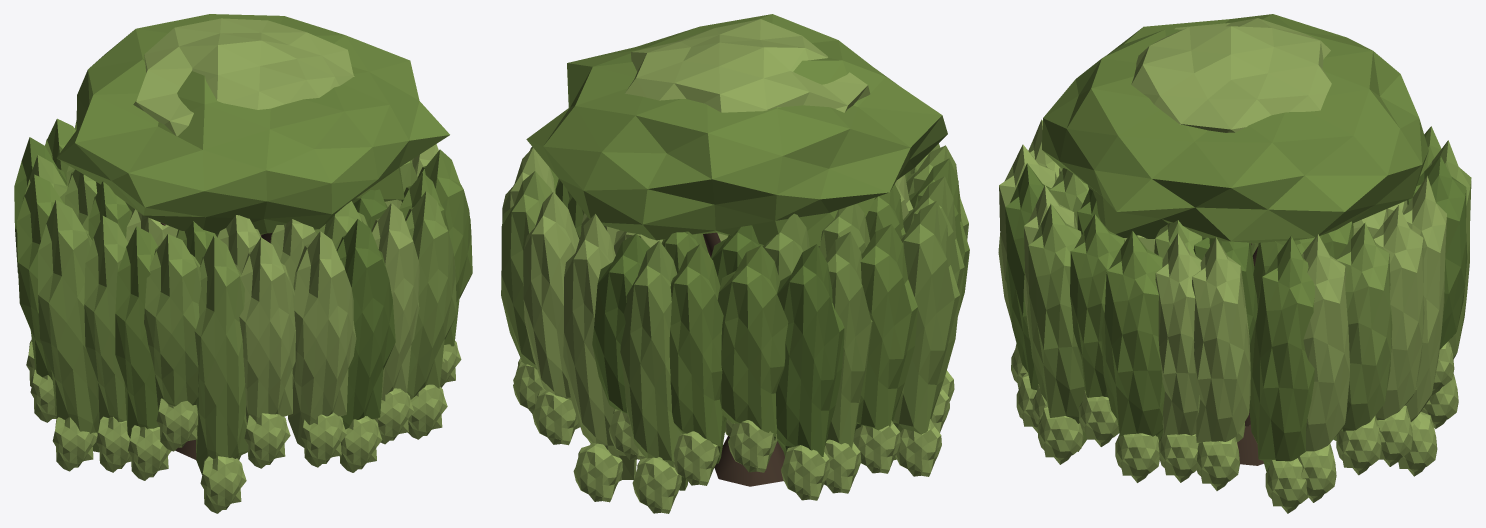
The model's file is tree-willow-1.obj.
3 renders of one model, left to right at view 1: azimuth 30°, elevation 25°; view 2: azimuth 150°, elevation 25°; view 3: azimuth 270°, elevation 25°, orthographic. The views are drawn at different scales.
Parts seen in each view (by area): view 1: part1; view 2: part1; view 3: part1.
Part boxes in pixels (x1,y1,x2,y2): part1: (14, 14, 472, 513); part1: (501, 14, 969, 513); part1: (998, 14, 1471, 513).
Size of the model in its own units: 6.6 by 6.38 by 6.45.
